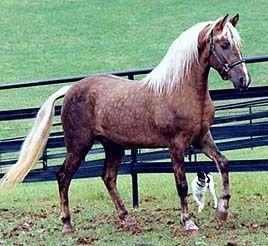horse: (0, 12, 250, 236)
